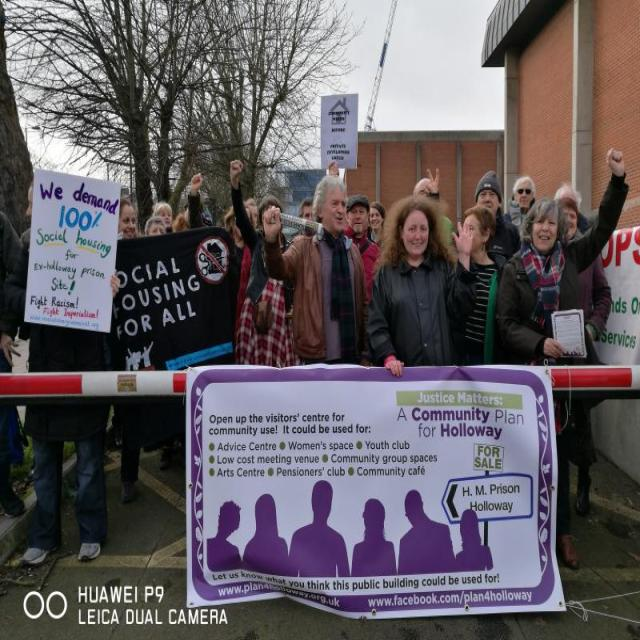body: (0, 173, 123, 567), (203, 475, 502, 582), (494, 145, 632, 365), (366, 194, 476, 380), (262, 172, 366, 365), (553, 196, 613, 513), (228, 156, 294, 369), (135, 168, 261, 269), (0, 208, 30, 520), (455, 201, 509, 366), (130, 392, 218, 486), (552, 182, 602, 342), (474, 169, 522, 270), (344, 192, 382, 303), (283, 195, 324, 254), (504, 176, 538, 246), (118, 196, 144, 239), (368, 200, 386, 243)
